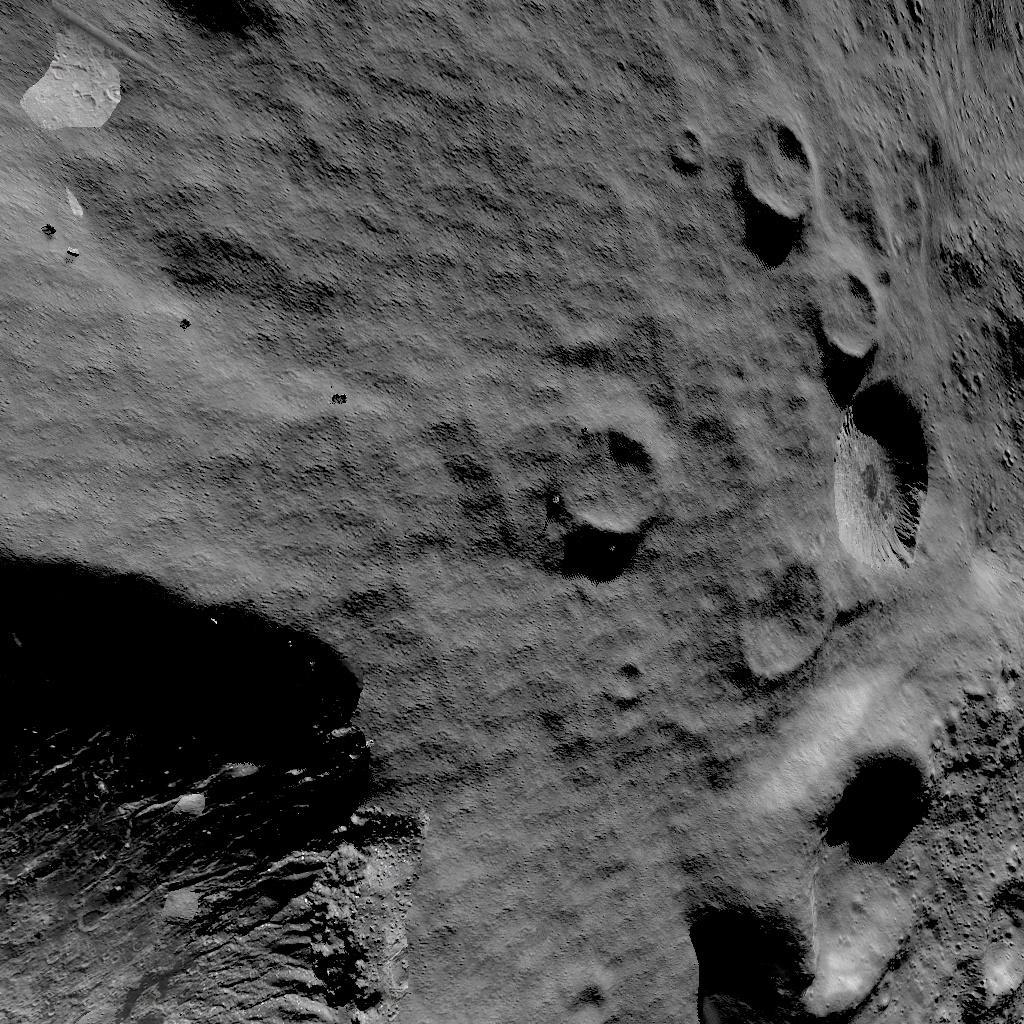Boulders: (0, 0, 101, 132)
Crater: (0, 556, 408, 1024), (663, 718, 924, 1022), (711, 378, 928, 686), (522, 416, 654, 546), (953, 858, 1024, 1014), (722, 125, 814, 238), (795, 266, 879, 364), (538, 962, 608, 1024), (594, 654, 648, 706)
Plan surface: (120, 0, 504, 537)
